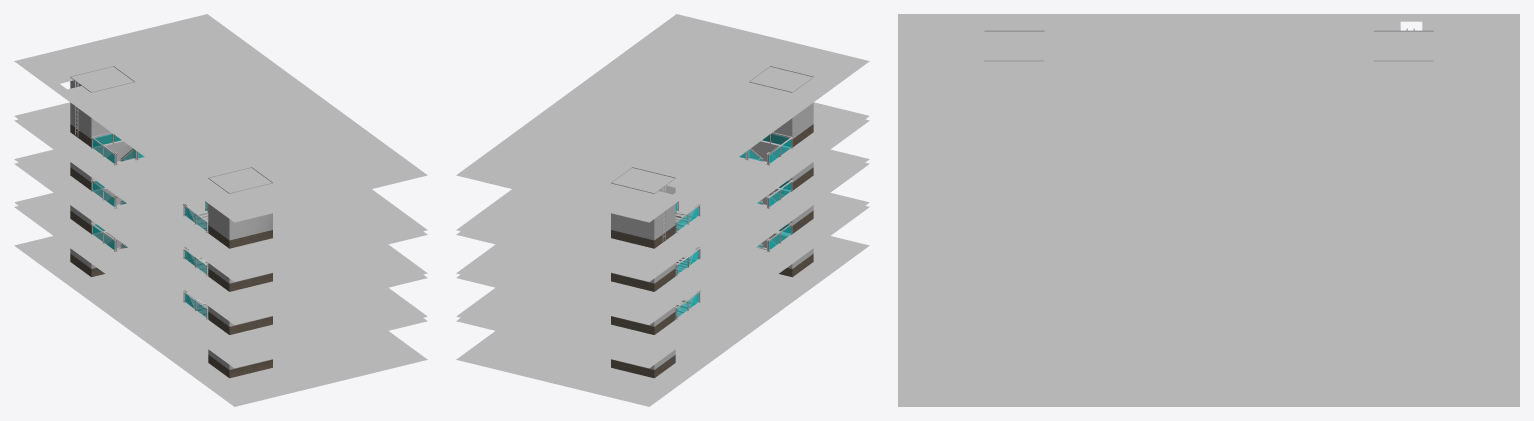
The model's file is Building02_Interior.fbx.
3 views of the same model, side by side, from view 1: azimuth 30°, elevation 25°; view 2: azimuth 150°, elevation 25°; view 3: azimuth 270°, elevation 25° (orthographic). The views are drawn at different scales.
Parts seen in each view (by area): view 1: Building02_Interior; view 2: Building02_Interior; view 3: Building02_Interior.
Boxes of the visible parts, left/top/right/bottom form: Building02_Interior: left=14, top=14, right=427, bottom=406; Building02_Interior: left=456, top=14, right=869, bottom=406; Building02_Interior: left=898, top=14, right=1519, bottom=406.
Bounding box in the file's own units: 1898 × 1849 × 3748.
